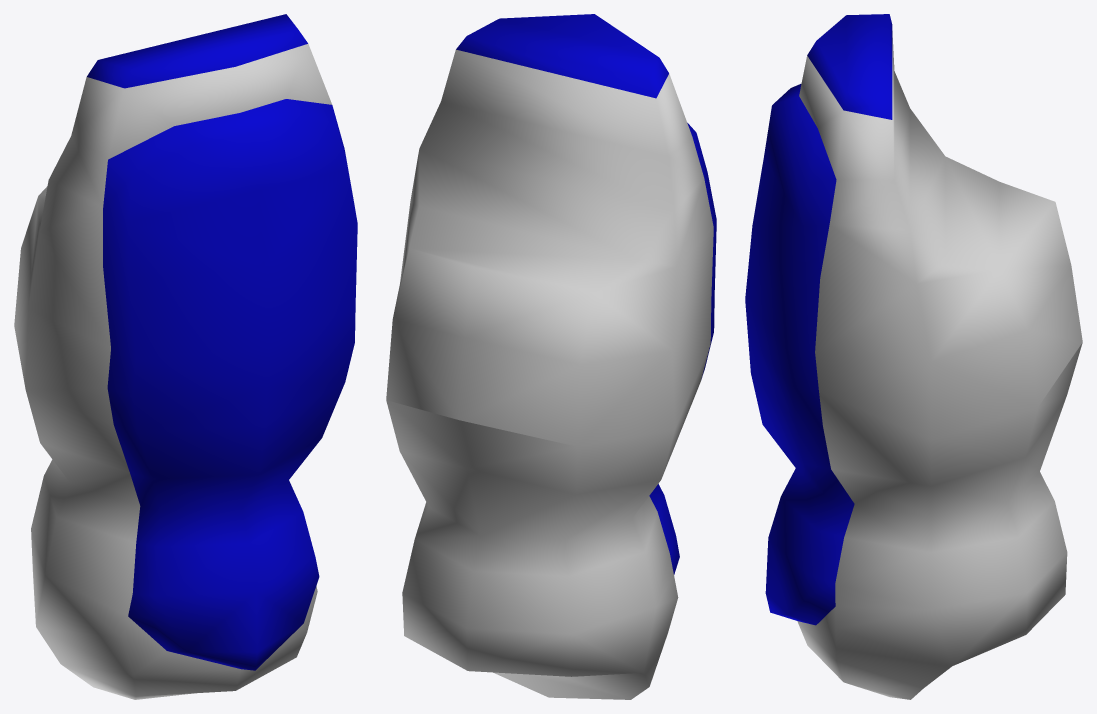
File: rlowerarm.obj
3 views of the same model, side by side, from view 1: azimuth 30°, elevation 25°; view 2: azimuth 150°, elevation 25°; view 3: azimuth 270°, elevation 25° (orthographic). The views are drawn at different scales.
Parts seen in each view (by area): view 1: lowerarm.002_Sphere.005; view 2: lowerarm.002_Sphere.005; view 3: lowerarm.002_Sphere.005.
Boxes of the visible parts, bbox=[...] form: lowerarm.002_Sphere.005: bbox=[14, 14, 357, 699]; lowerarm.002_Sphere.005: bbox=[386, 14, 716, 699]; lowerarm.002_Sphere.005: bbox=[745, 14, 1082, 699].
Bounding box in the file's own units: 1.23 × 2.75 × 1.32.
